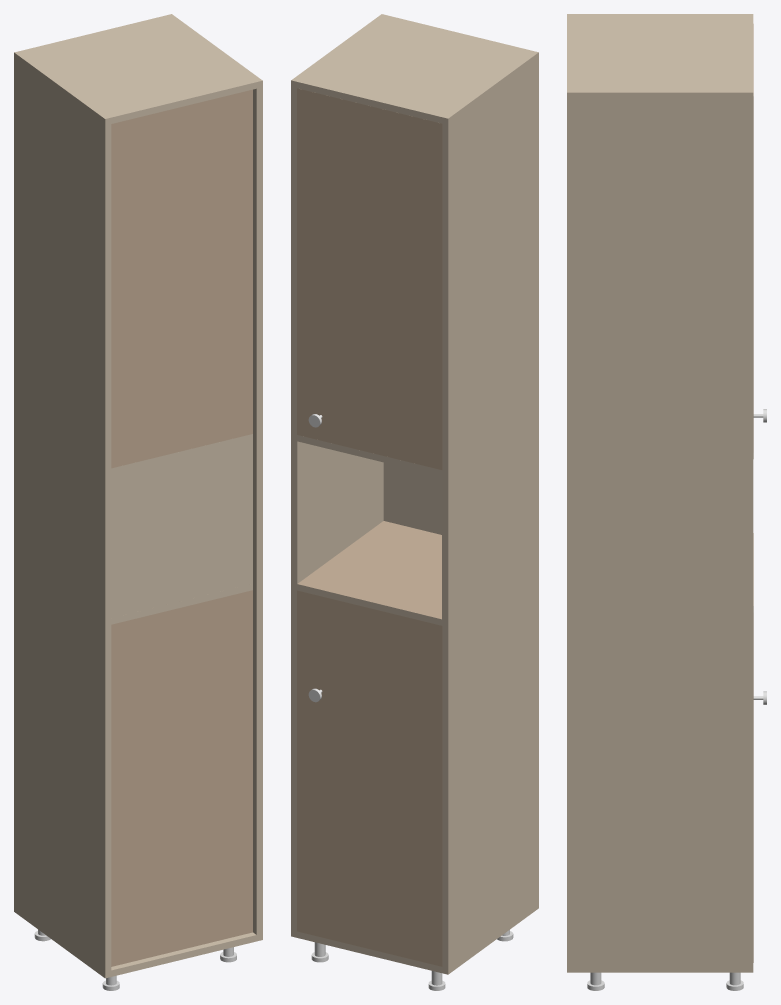
3 views of the same model, side by side, from view 1: azimuth 30°, elevation 25°; view 2: azimuth 150°, elevation 25°; view 3: azimuth 270°, elevation 25° (orthographic). The views are drawn at different scales.
Parts seen in each view (by area): view 1: side, upper_panel, lower_panel, floor, floor.001; view 2: side, lower_panel, upper_panel, floor, floor.001; view 3: side.
Boxes of the visible parts, <box> form: side: <box>14,14,262,978</box>; upper_panel: <box>111,89,252,468</box>; lower_panel: <box>111,590,252,966</box>; floor: <box>111,583,252,624</box>; floor.001: <box>111,434,252,474</box>; side: <box>291,14,538,974</box>; lower_panel: <box>297,521,442,966</box>; upper_panel: <box>297,88,442,469</box>; floor: <box>297,584,442,625</box>; floor.001: <box>297,435,442,476</box>; side: <box>567,14,753,972</box>.
Bounding box in the file's own units: 0.3549 × 1.9 × 0.3804.
